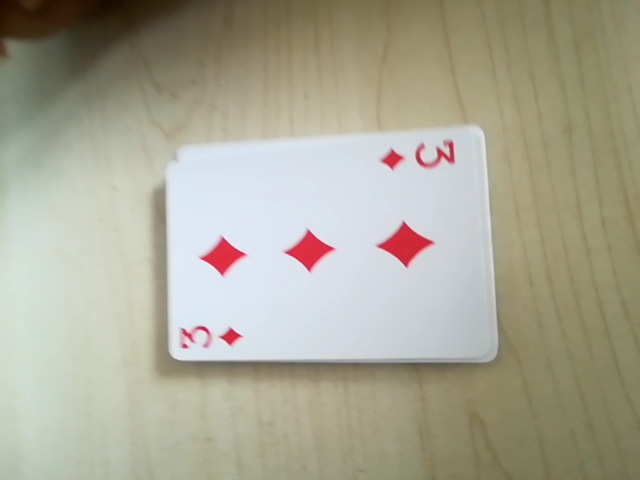fk 3: (375, 131, 465, 179), (171, 317, 248, 358)
